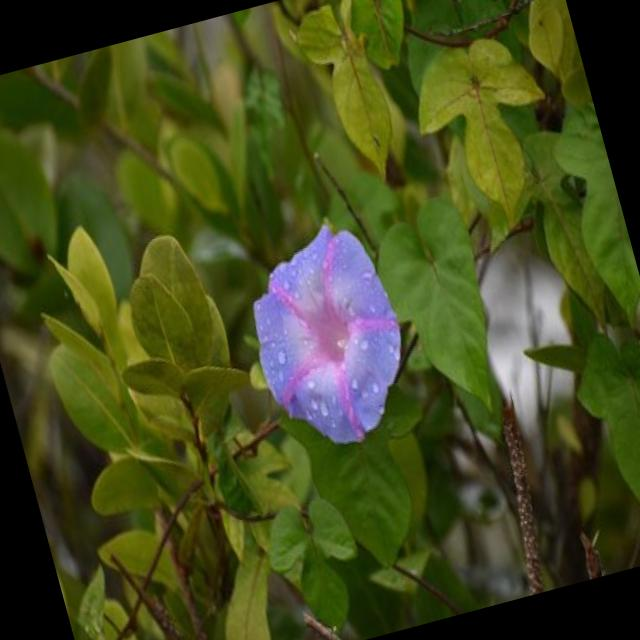ipomoea: (226, 208, 432, 468)
